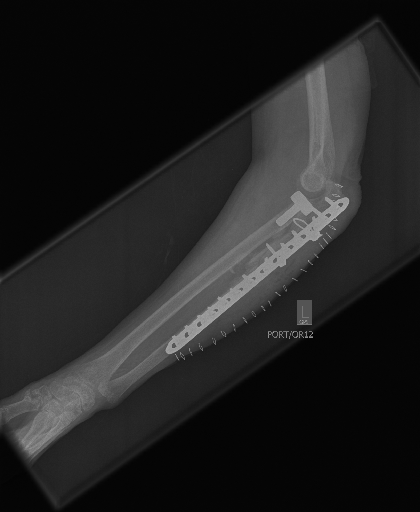implant: (169, 194, 349, 351)
